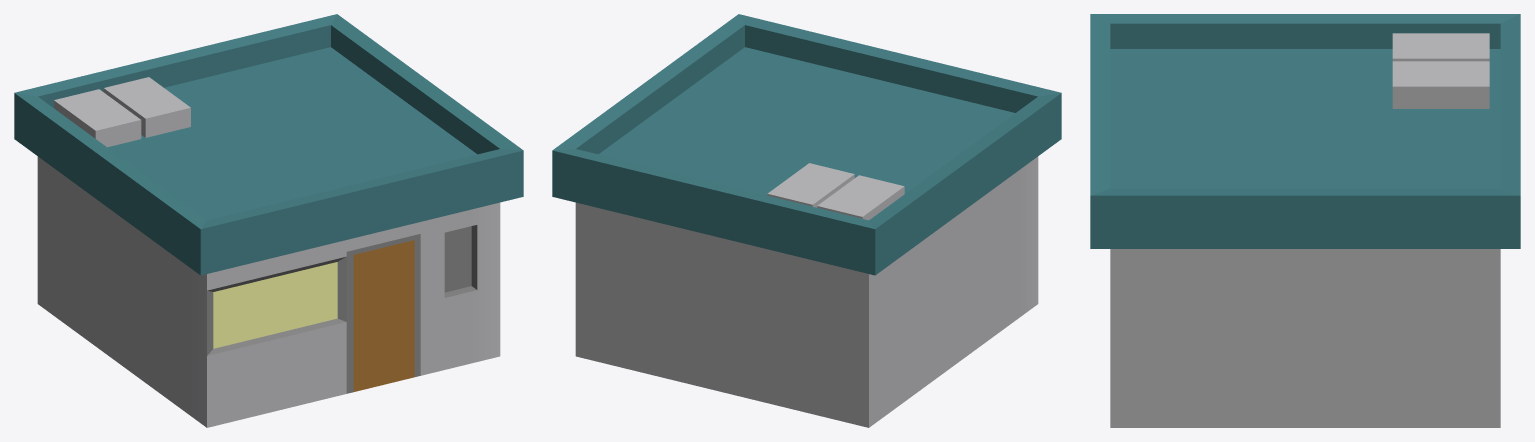
File: Store2.fbx
3 renders of one model, left to right at view 1: azimuth 30°, elevation 25°; view 2: azimuth 150°, elevation 25°; view 3: azimuth 270°, elevation 25°, orthographic. The views are drawn at different scales.
Parts seen in each view (by area): view 1: Store2; view 2: Store2; view 3: Store2.
Boxes of the visible parts, left/top/right/bottom form: Store2: left=14, top=14, right=523, bottom=427; Store2: left=552, top=14, right=1061, bottom=427; Store2: left=1090, top=14, right=1520, bottom=427.
Bounding box in the file's own units: 61.39 × 37.89 × 61.39.
